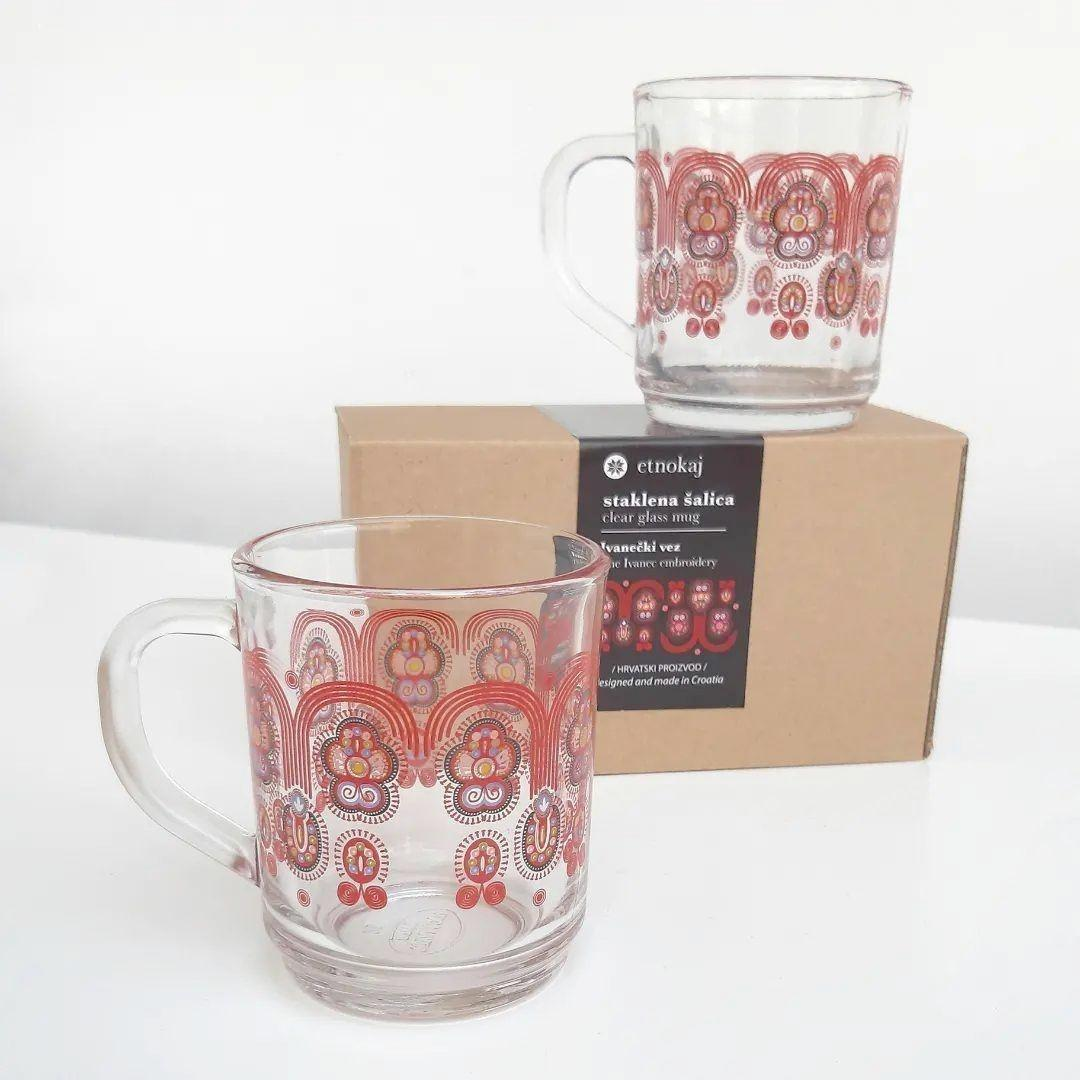glass-mug: (79, 504, 619, 1021), (538, 62, 933, 434)
